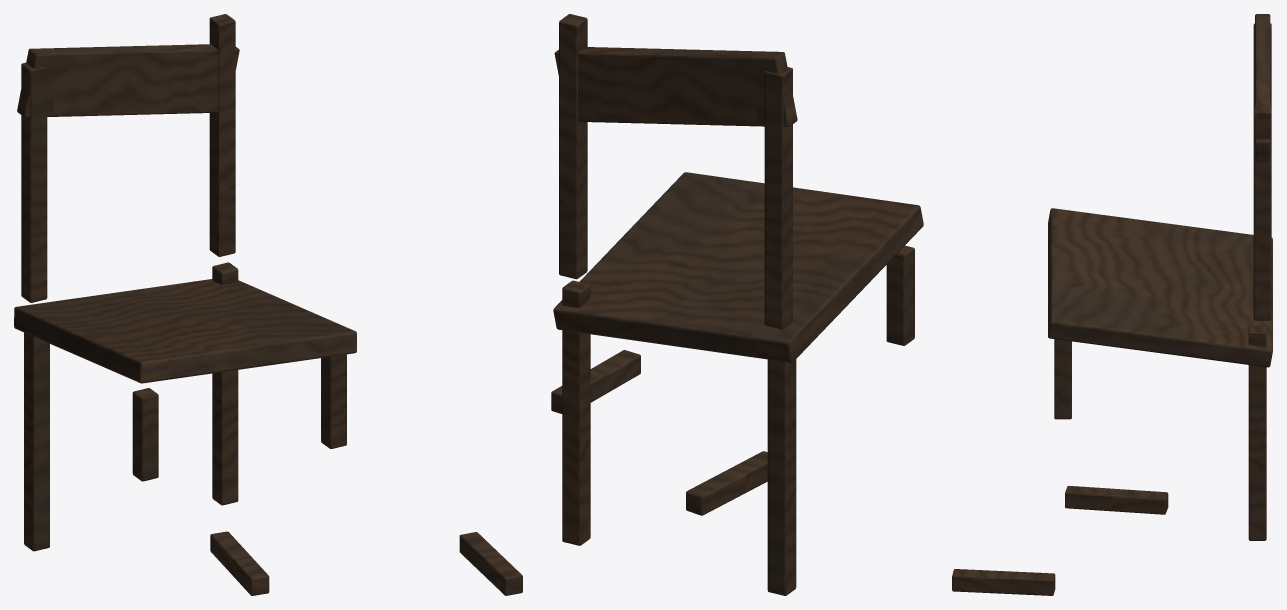
Rendered from BR01_broken_chair_v1.glb.
3 views of the same model, side by side, from view 1: azimuth 30°, elevation 25°; view 2: azimuth 150°, elevation 25°; view 3: azimuth 270°, elevation 25° (orthographic). The views are drawn at different scales.
Visible parts, largest first — view 1: BR01_broken_chair_v1; view 2: BR01_broken_chair_v1; view 3: BR01_broken_chair_v1.
Part boxes in pixels (x1=…): BR01_broken_chair_v1: x1=14, y1=14, x2=522, y2=595; BR01_broken_chair_v1: x1=551, y1=14, x2=923, y2=595; BR01_broken_chair_v1: x1=952, y1=14, x2=1272, y2=595.
Bounding box in the file's own units: 0.6543 × 0.9 × 0.5932.
1 material, 1 textured.
